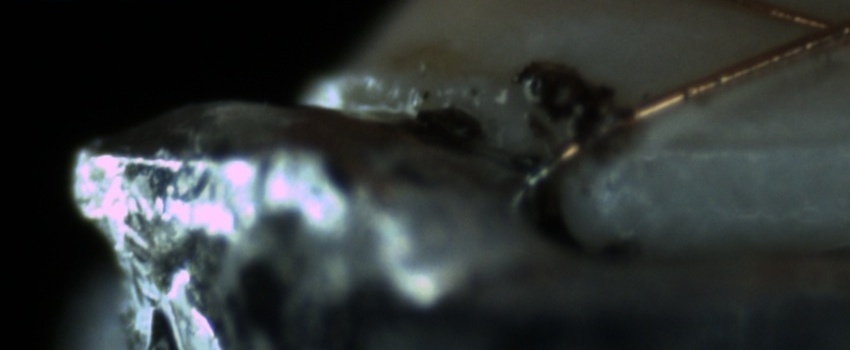CL: (770, 2, 848, 63)
DL: (640, 110, 849, 173)
